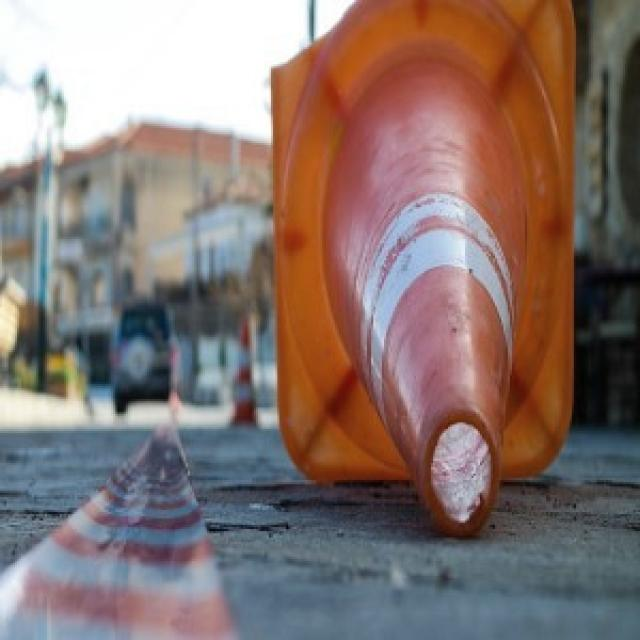cone: (273, 0, 578, 538), (225, 312, 265, 430)
